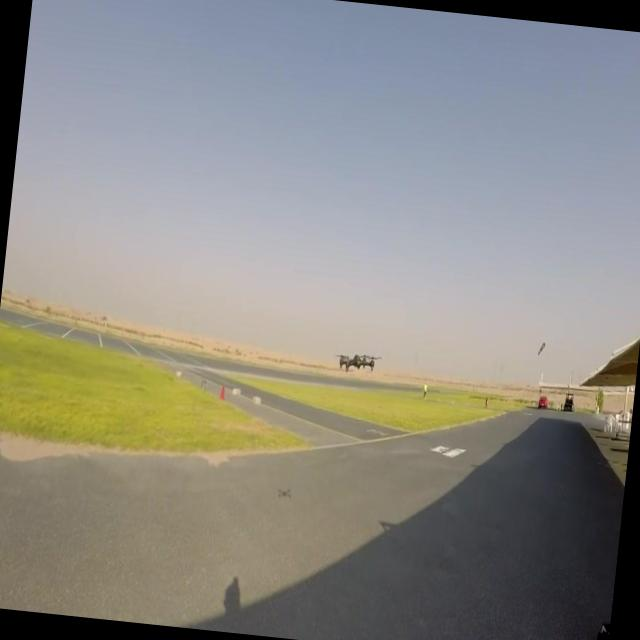drone: (335, 349, 381, 377)
